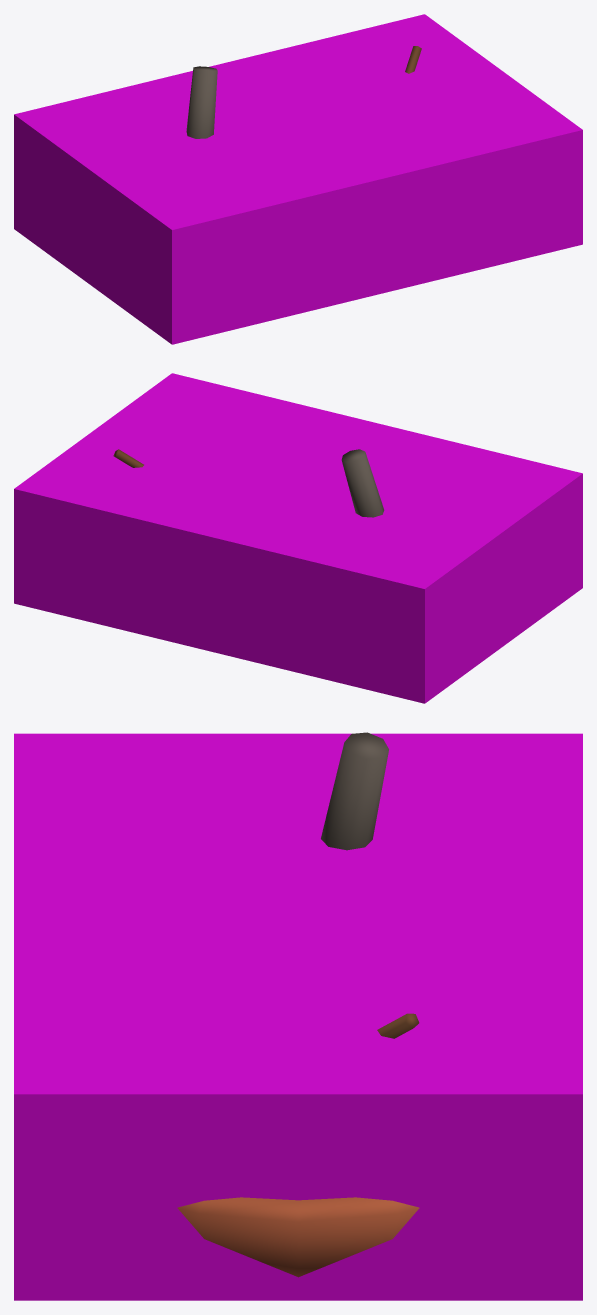
The model's file is PRP_Mortar_Pestle_A.glb.
3 views of the same model, one above another, from view 1: azimuth 30°, elevation 25°; view 2: azimuth 150°, elevation 25°; view 3: azimuth 270°, elevation 25° (orthographic). The views are drawn at different scales.
Parts seen in each view (by area): view 1: COL_Group, PRP_Mortar_Pestle_A_Mesh; view 2: COL_Group, PRP_Mortar_Pestle_A_Mesh; view 3: COL_Group, PRP_Mortar_Pestle_A_Mesh.
Part boxes in pixels (<box>): COL_Group: <box>14,14,582,344</box>; PRP_Mortar_Pestle_A_Mesh: <box>186,46,421,138</box>; COL_Group: <box>14,373,582,703</box>; PRP_Mortar_Pestle_A_Mesh: <box>113,449,384,517</box>; COL_Group: <box>14,733,582,1300</box>; PRP_Mortar_Pestle_A_Mesh: <box>177,732,419,1277</box>.
Size of the model in its own units: 1.56 by 0.6103 by 1.
